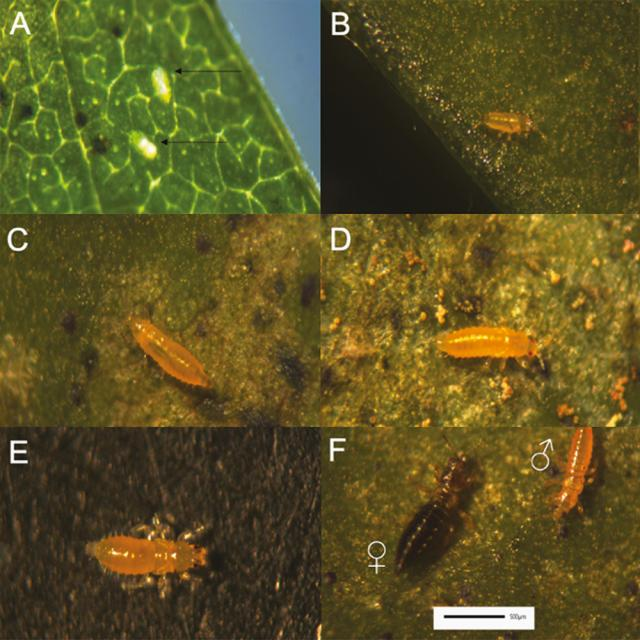Thrip-Adult-: (386, 434, 488, 579)
Thrip-Larva-: (86, 514, 218, 583), (123, 307, 224, 394), (424, 316, 567, 368), (554, 414, 603, 522), (472, 106, 546, 140)
